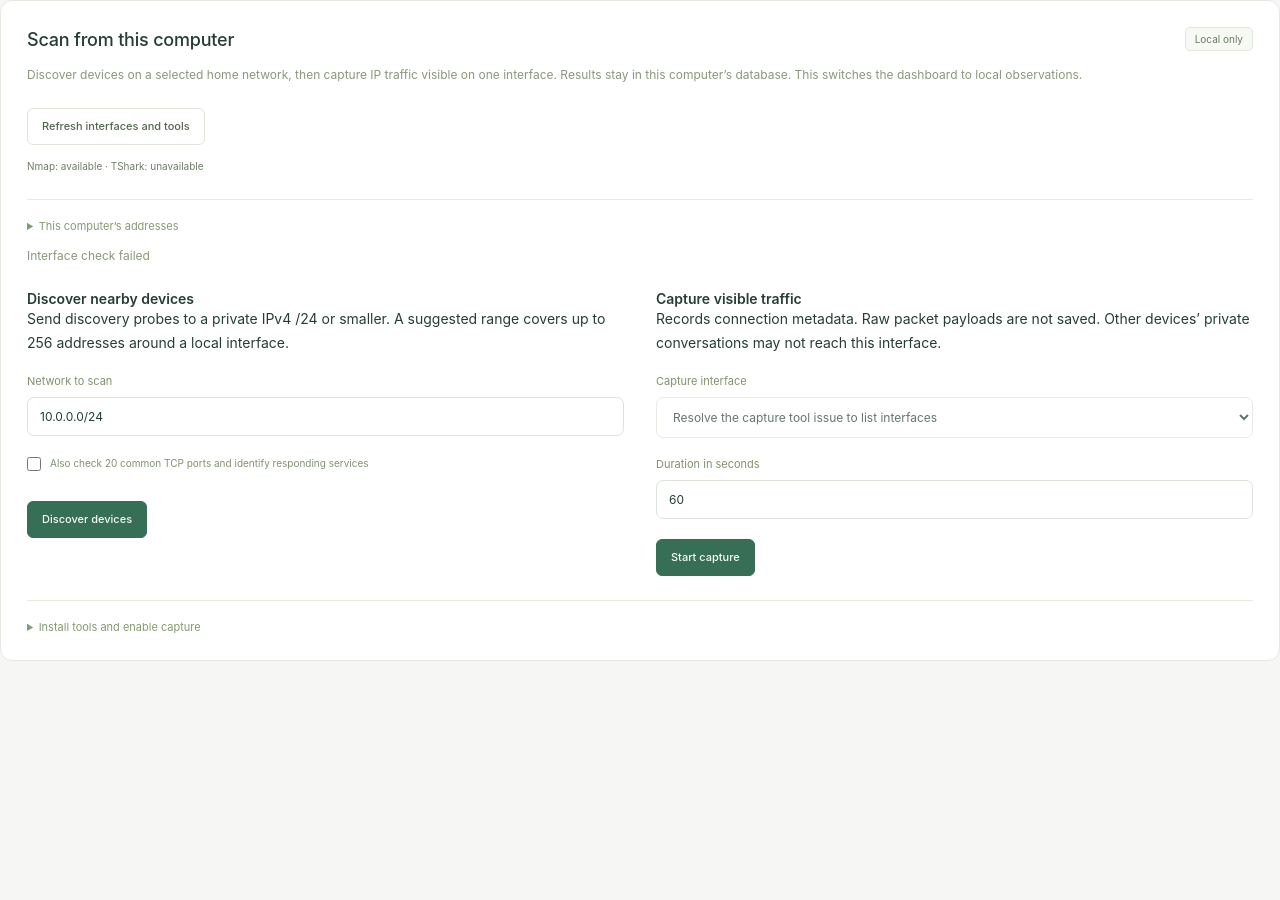
Test: capture failure diagnosis › does not reinstall TShark for a permission failure
Expected: the text "Interface check failed" is shown, [27,248,150,263]
Click the button "Start capture".
click(705, 557)  # box [656,539,755,576]
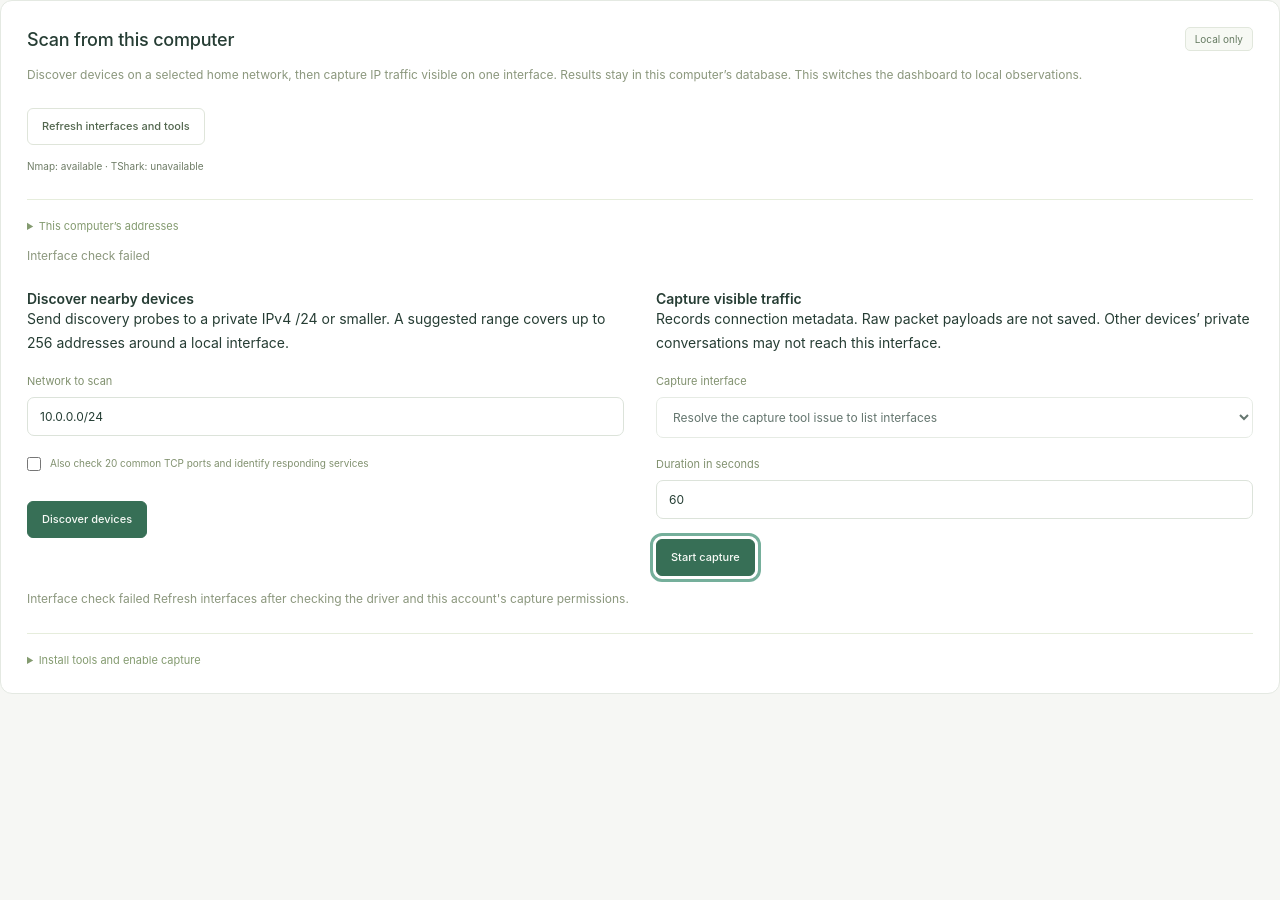
Expected: the text "Refresh interfaces after checking" is shown, [27,591,629,606]
